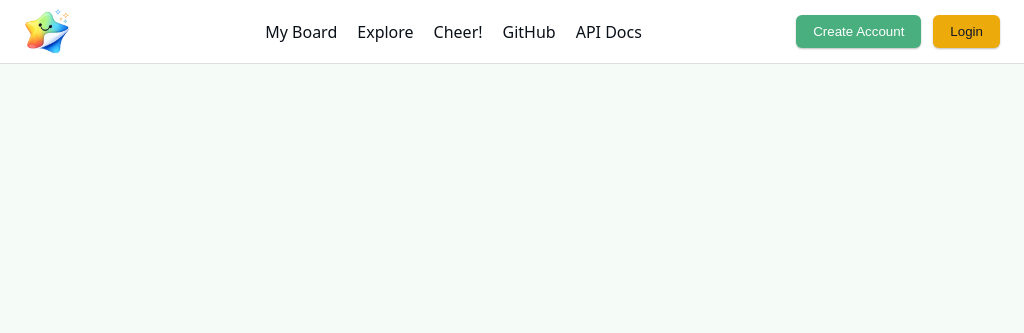
Scenario: Navbar › should show login dropdown when login button is clicked
This screenshot has width=1024, height=333.
Step 1. Click the button "Login" → (967, 32), box [933,15,1000,48]
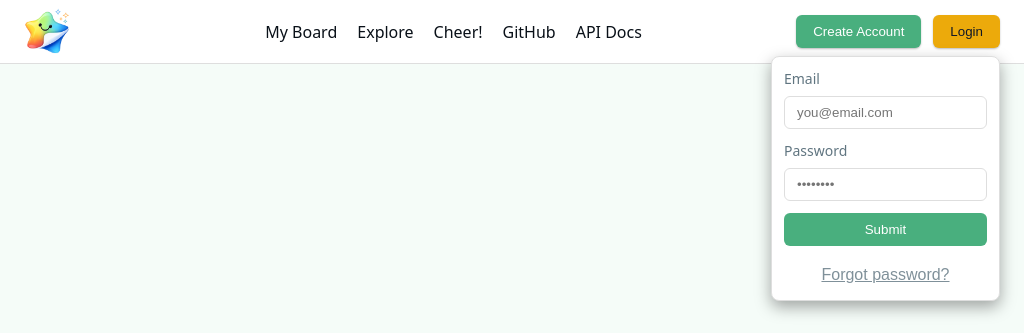
Expected: the field labelled "Email" is shown, [784,96,987,129]
Expected: the password field labelled "Password" is shown, [784,168,987,201]
